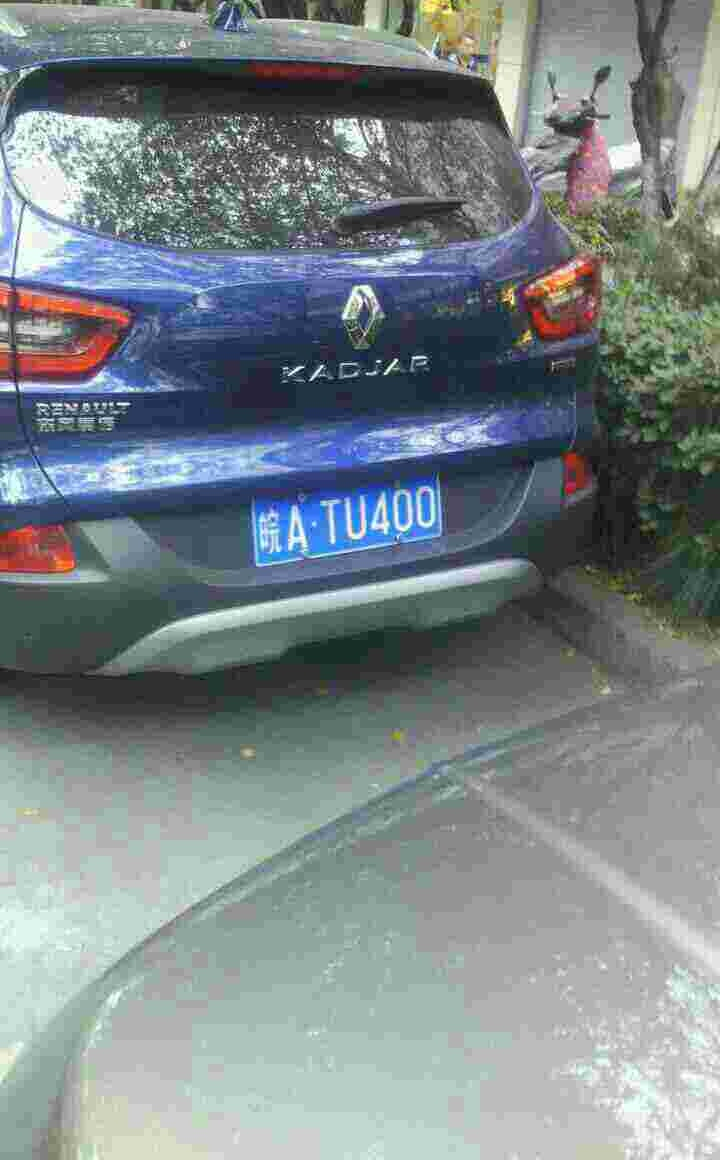license_plate: (255, 480, 443, 570)
